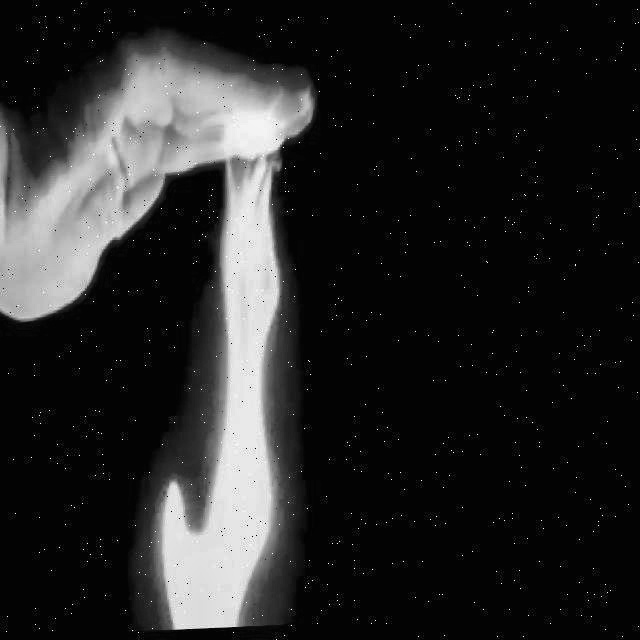Fire: (125, 93, 341, 634)
